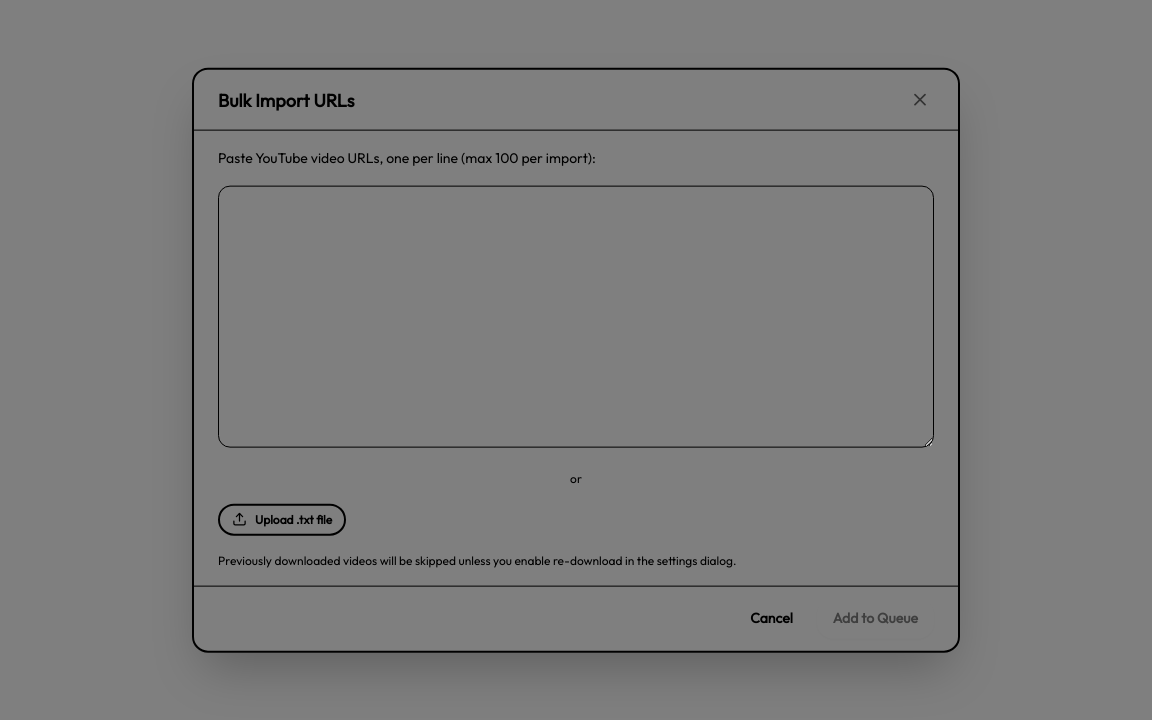
Test case: BulkImportDialog › URL Parsing › clears results when textarea is emptied
Replace the text in the text box with test id "bulk-import-textarea" with "https://www.youtube.com/watch?v=dQw4w9WgXcQ": (576, 316) x1=218 y1=185 x2=934 y2=447
Wait 300 ms
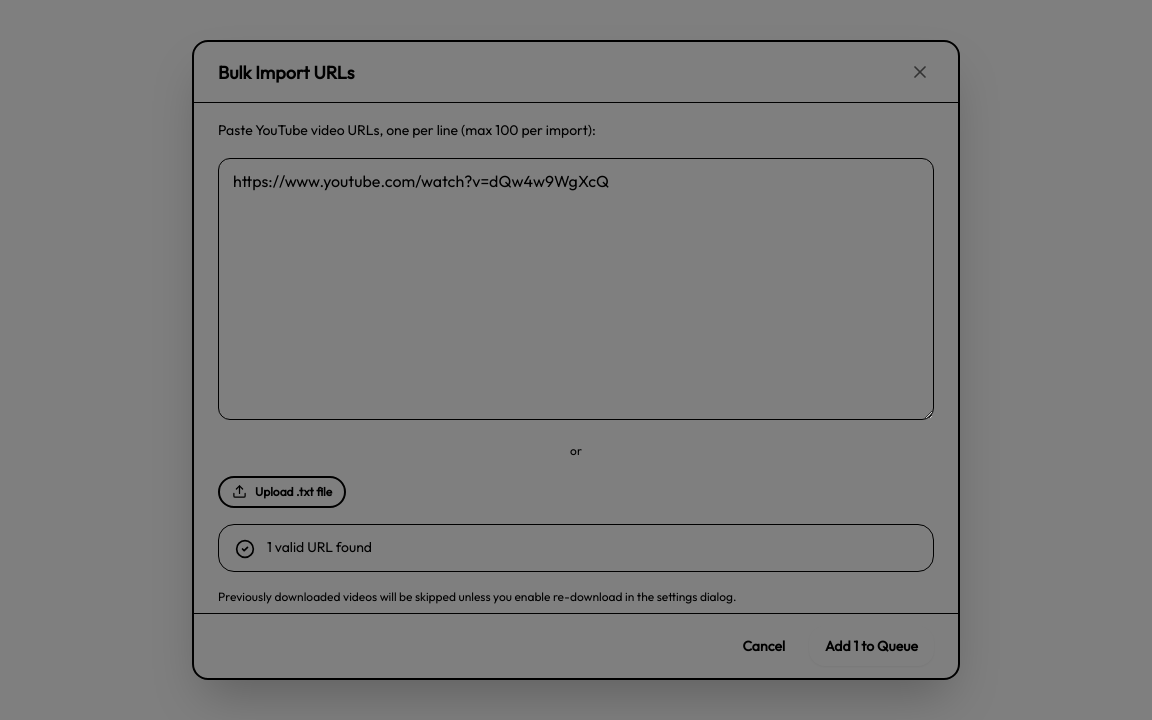
Result: the text "1 valid URL found" is shown at x1=267 y1=538 x2=372 y2=556
Clear the text box with test id "bulk-import-textarea": (576, 289) x1=218 y1=158 x2=934 y2=420
Wait 300 ms
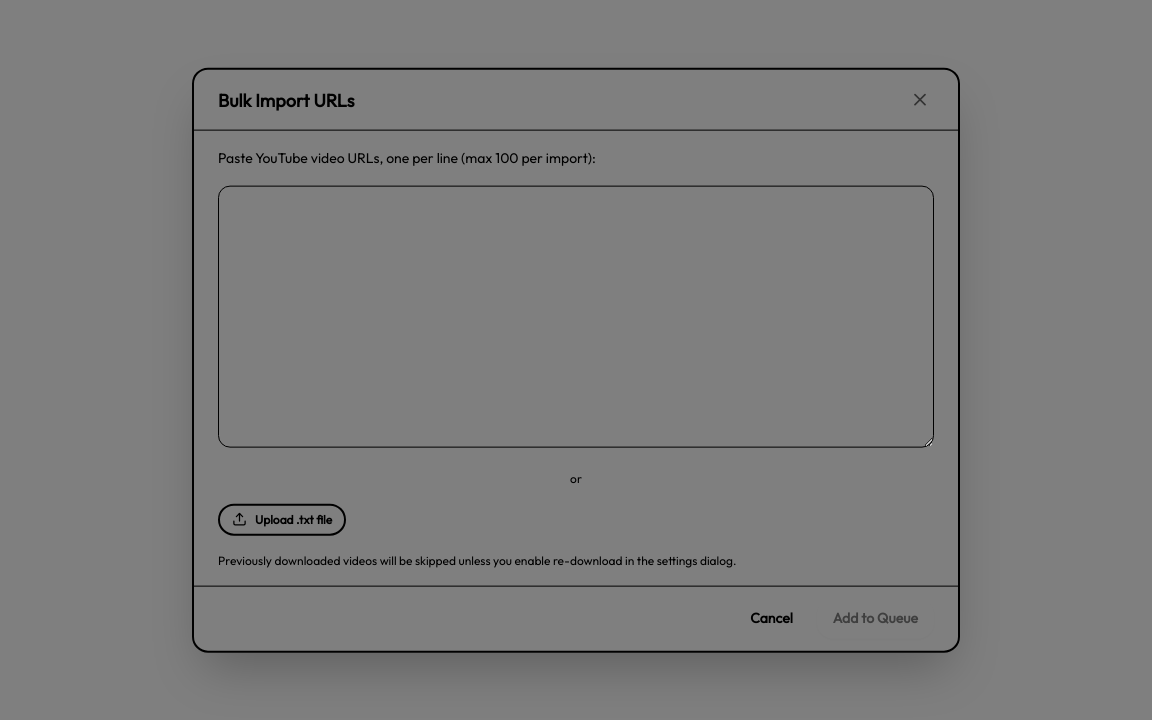
Result: the text "valid URL" is gone
